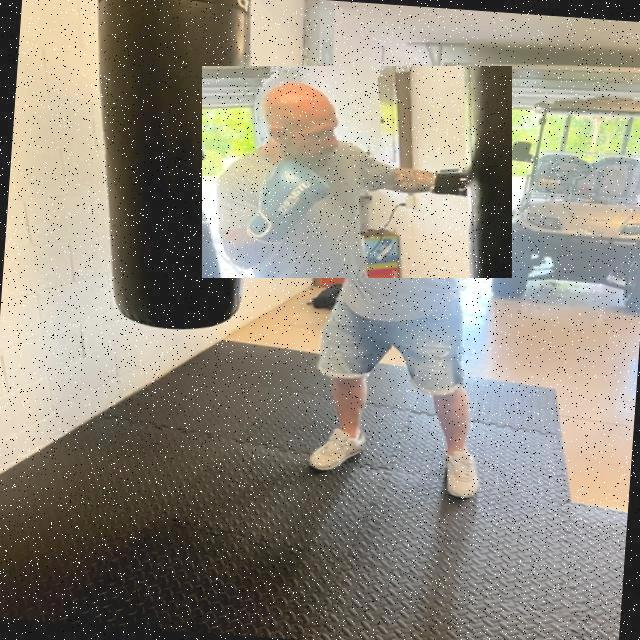punch: (202, 66, 512, 278)
